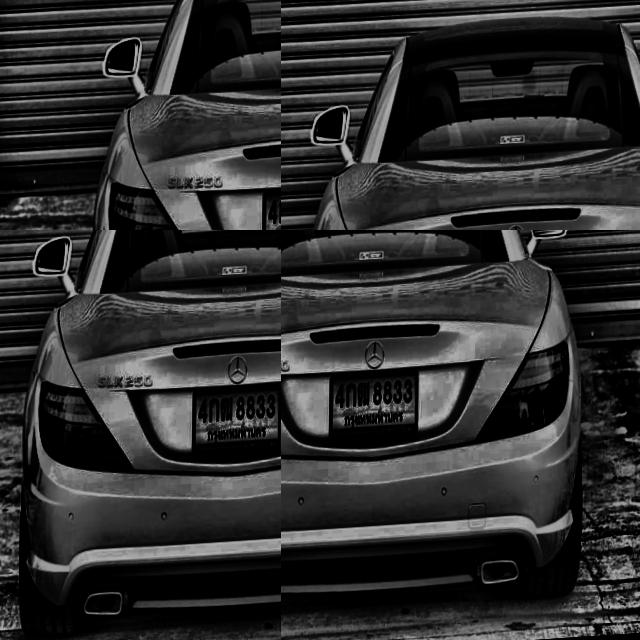license-plate: (281, 0, 640, 230), (32, 455, 119, 547), (328, 372, 420, 448)
